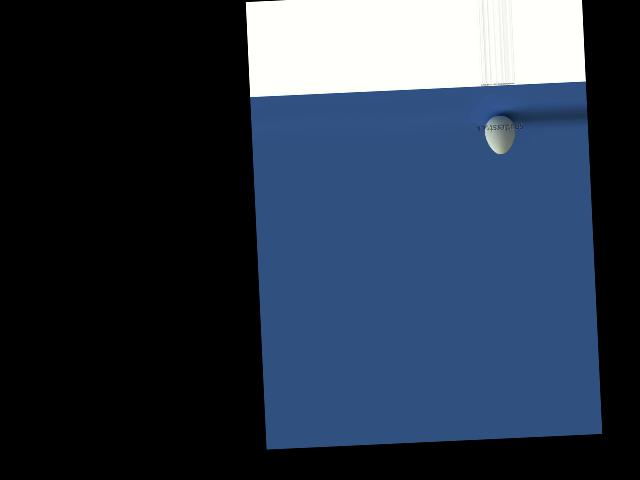egg: (483, 114, 515, 155)
